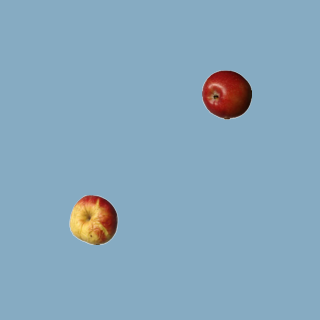Apple Braeburn: (201, 69, 251, 119)
Apple Red Yellow 1: (68, 194, 118, 244)
